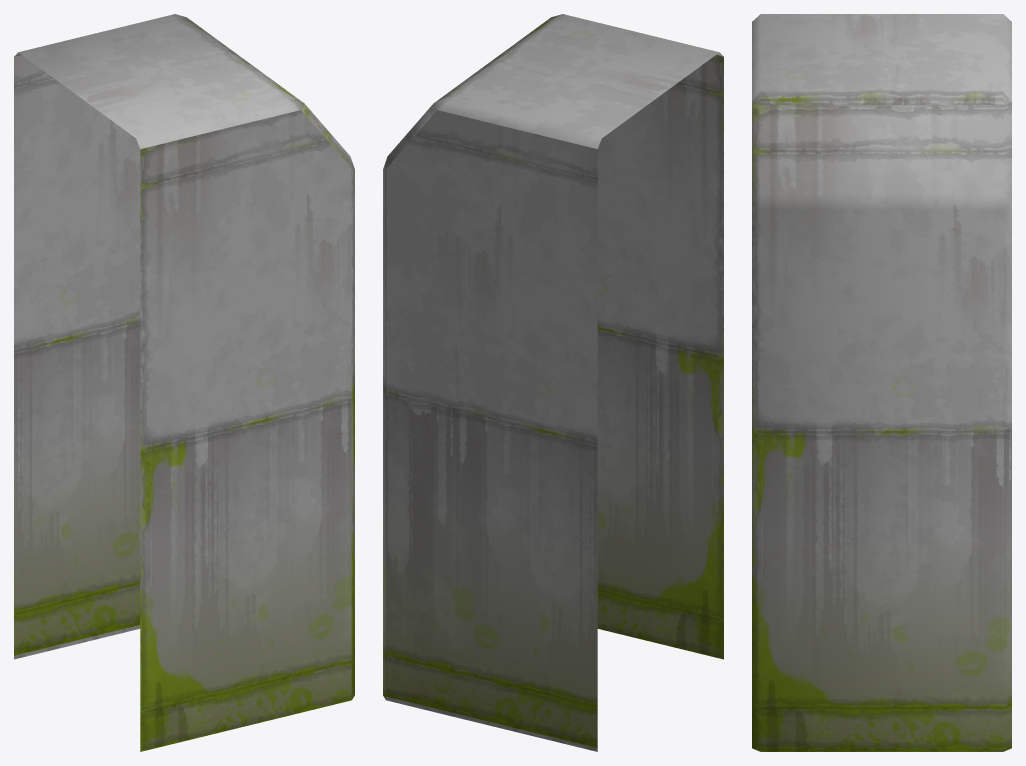
File: SM_ENV_PORT_PIER_BLOCK_03.fbx
3 renders of one model, left to right at view 1: azimuth 30°, elevation 25°; view 2: azimuth 150°, elevation 25°; view 3: azimuth 270°, elevation 25°, orthographic. The views are drawn at different scales.
Visible parts, largest first — view 1: SM_ENV_PORT_PIER_BLOCK_03; view 2: SM_ENV_PORT_PIER_BLOCK_03; view 3: SM_ENV_PORT_PIER_BLOCK_03.
Part boxes in pixels (x1,y1,x2,y2): SM_ENV_PORT_PIER_BLOCK_03: (14,14,354,751); SM_ENV_PORT_PIER_BLOCK_03: (383,14,723,751); SM_ENV_PORT_PIER_BLOCK_03: (752,14,1011,751).
Bounding box in the file's own units: 1.5 × 4 × 1.5.
